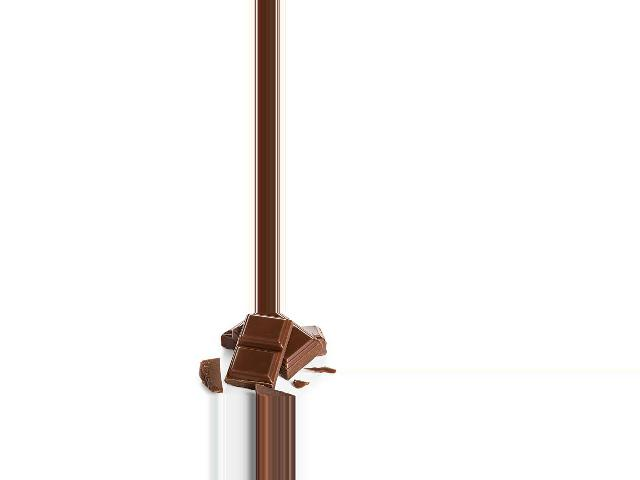chocolate: (227, 317, 293, 387)
